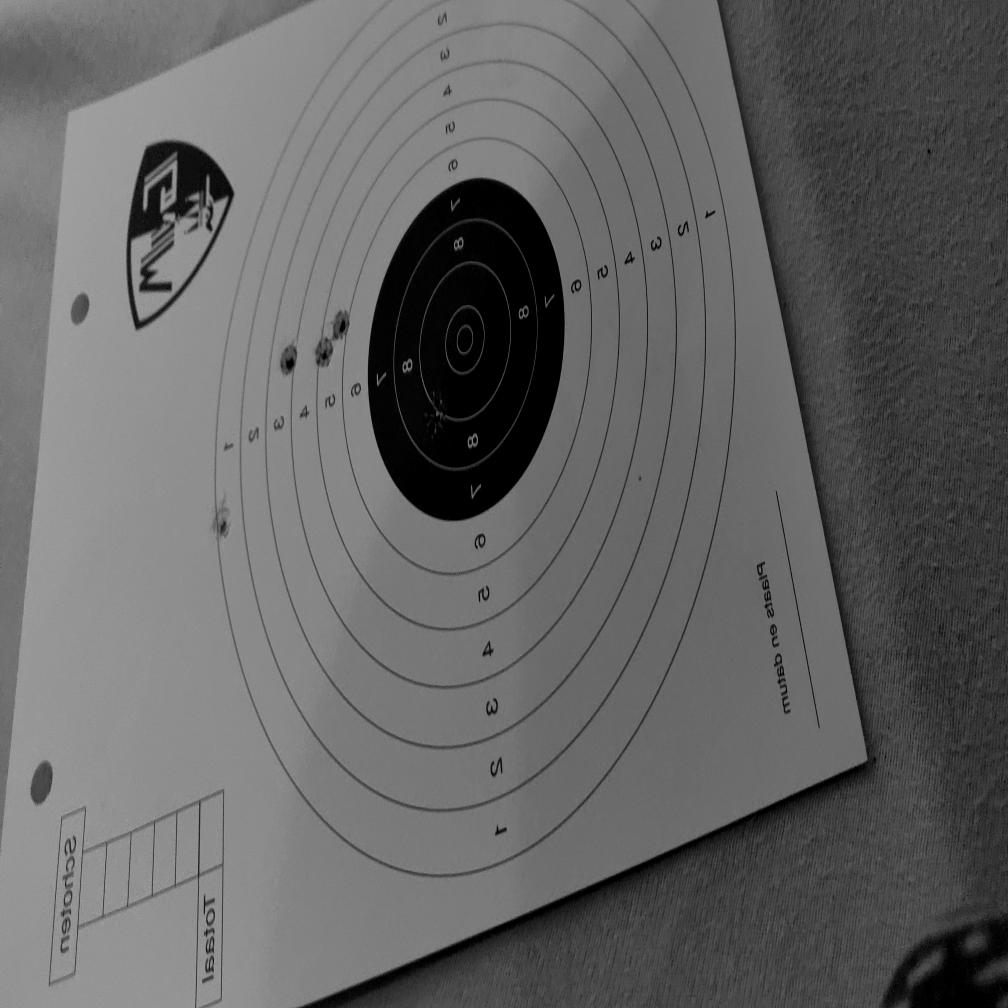1: (212, 492, 231, 544)
4: (276, 338, 298, 380)
5: (312, 332, 333, 376)
6: (332, 300, 351, 343)
9: (422, 385, 446, 439)
Target: (212, 0, 734, 888)
black_contour: (367, 176, 564, 522)
